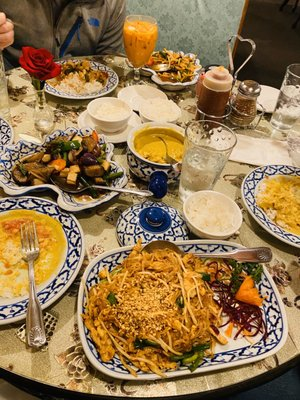burger: (20, 220, 47, 348)
pizza: (178, 120, 238, 198), (269, 63, 300, 139)
salad: (181, 247, 273, 264)
sushi: (76, 239, 293, 383), (127, 123, 186, 182), (182, 190, 242, 240), (86, 97, 133, 135)
